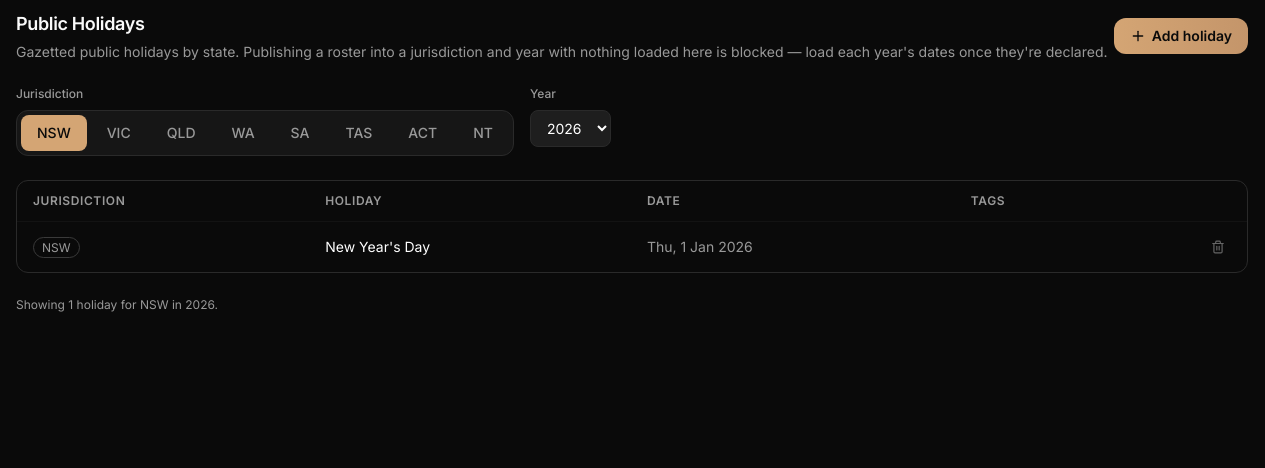
PublicHolidaysTab › shows a context-specific empty message when the org has other data but none for this filter
The image size is (1265, 468).
Click the tab "VIC" at [119, 133], box [91,115,147,151]
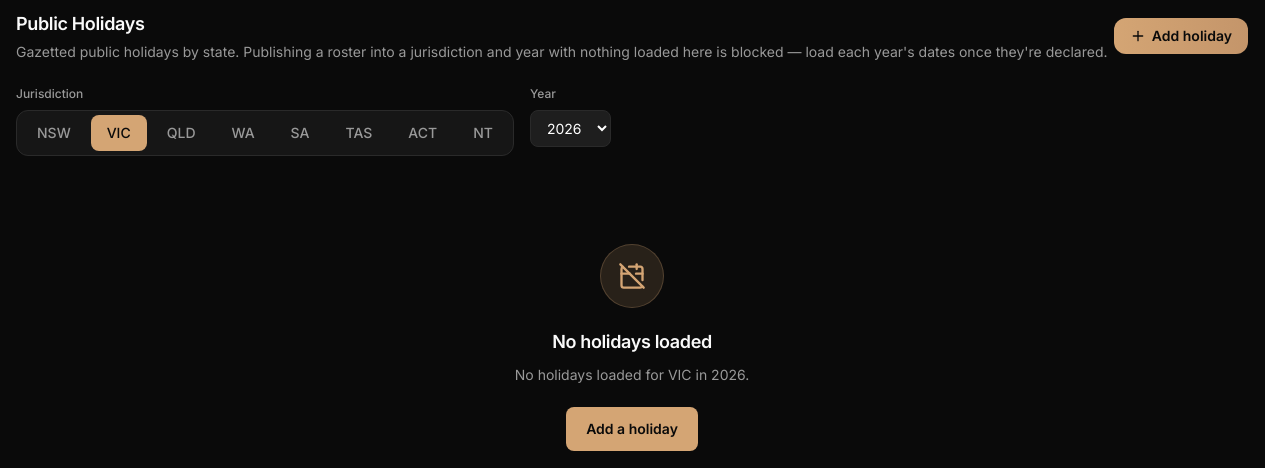
expect the heading "No holidays loaded" is shown: met, box [552,328,712,356]
